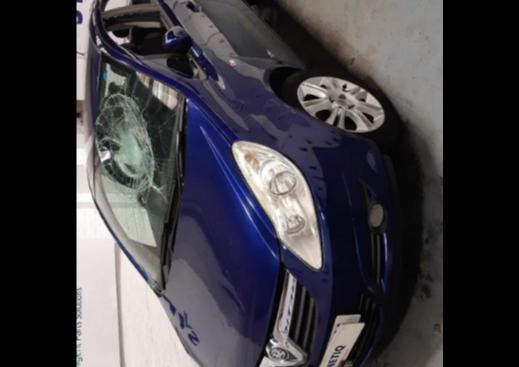Cracked: (92, 48, 185, 291)
Flaking: (368, 152, 377, 173)
Missing part: (101, 9, 175, 57), (101, 0, 154, 11)
